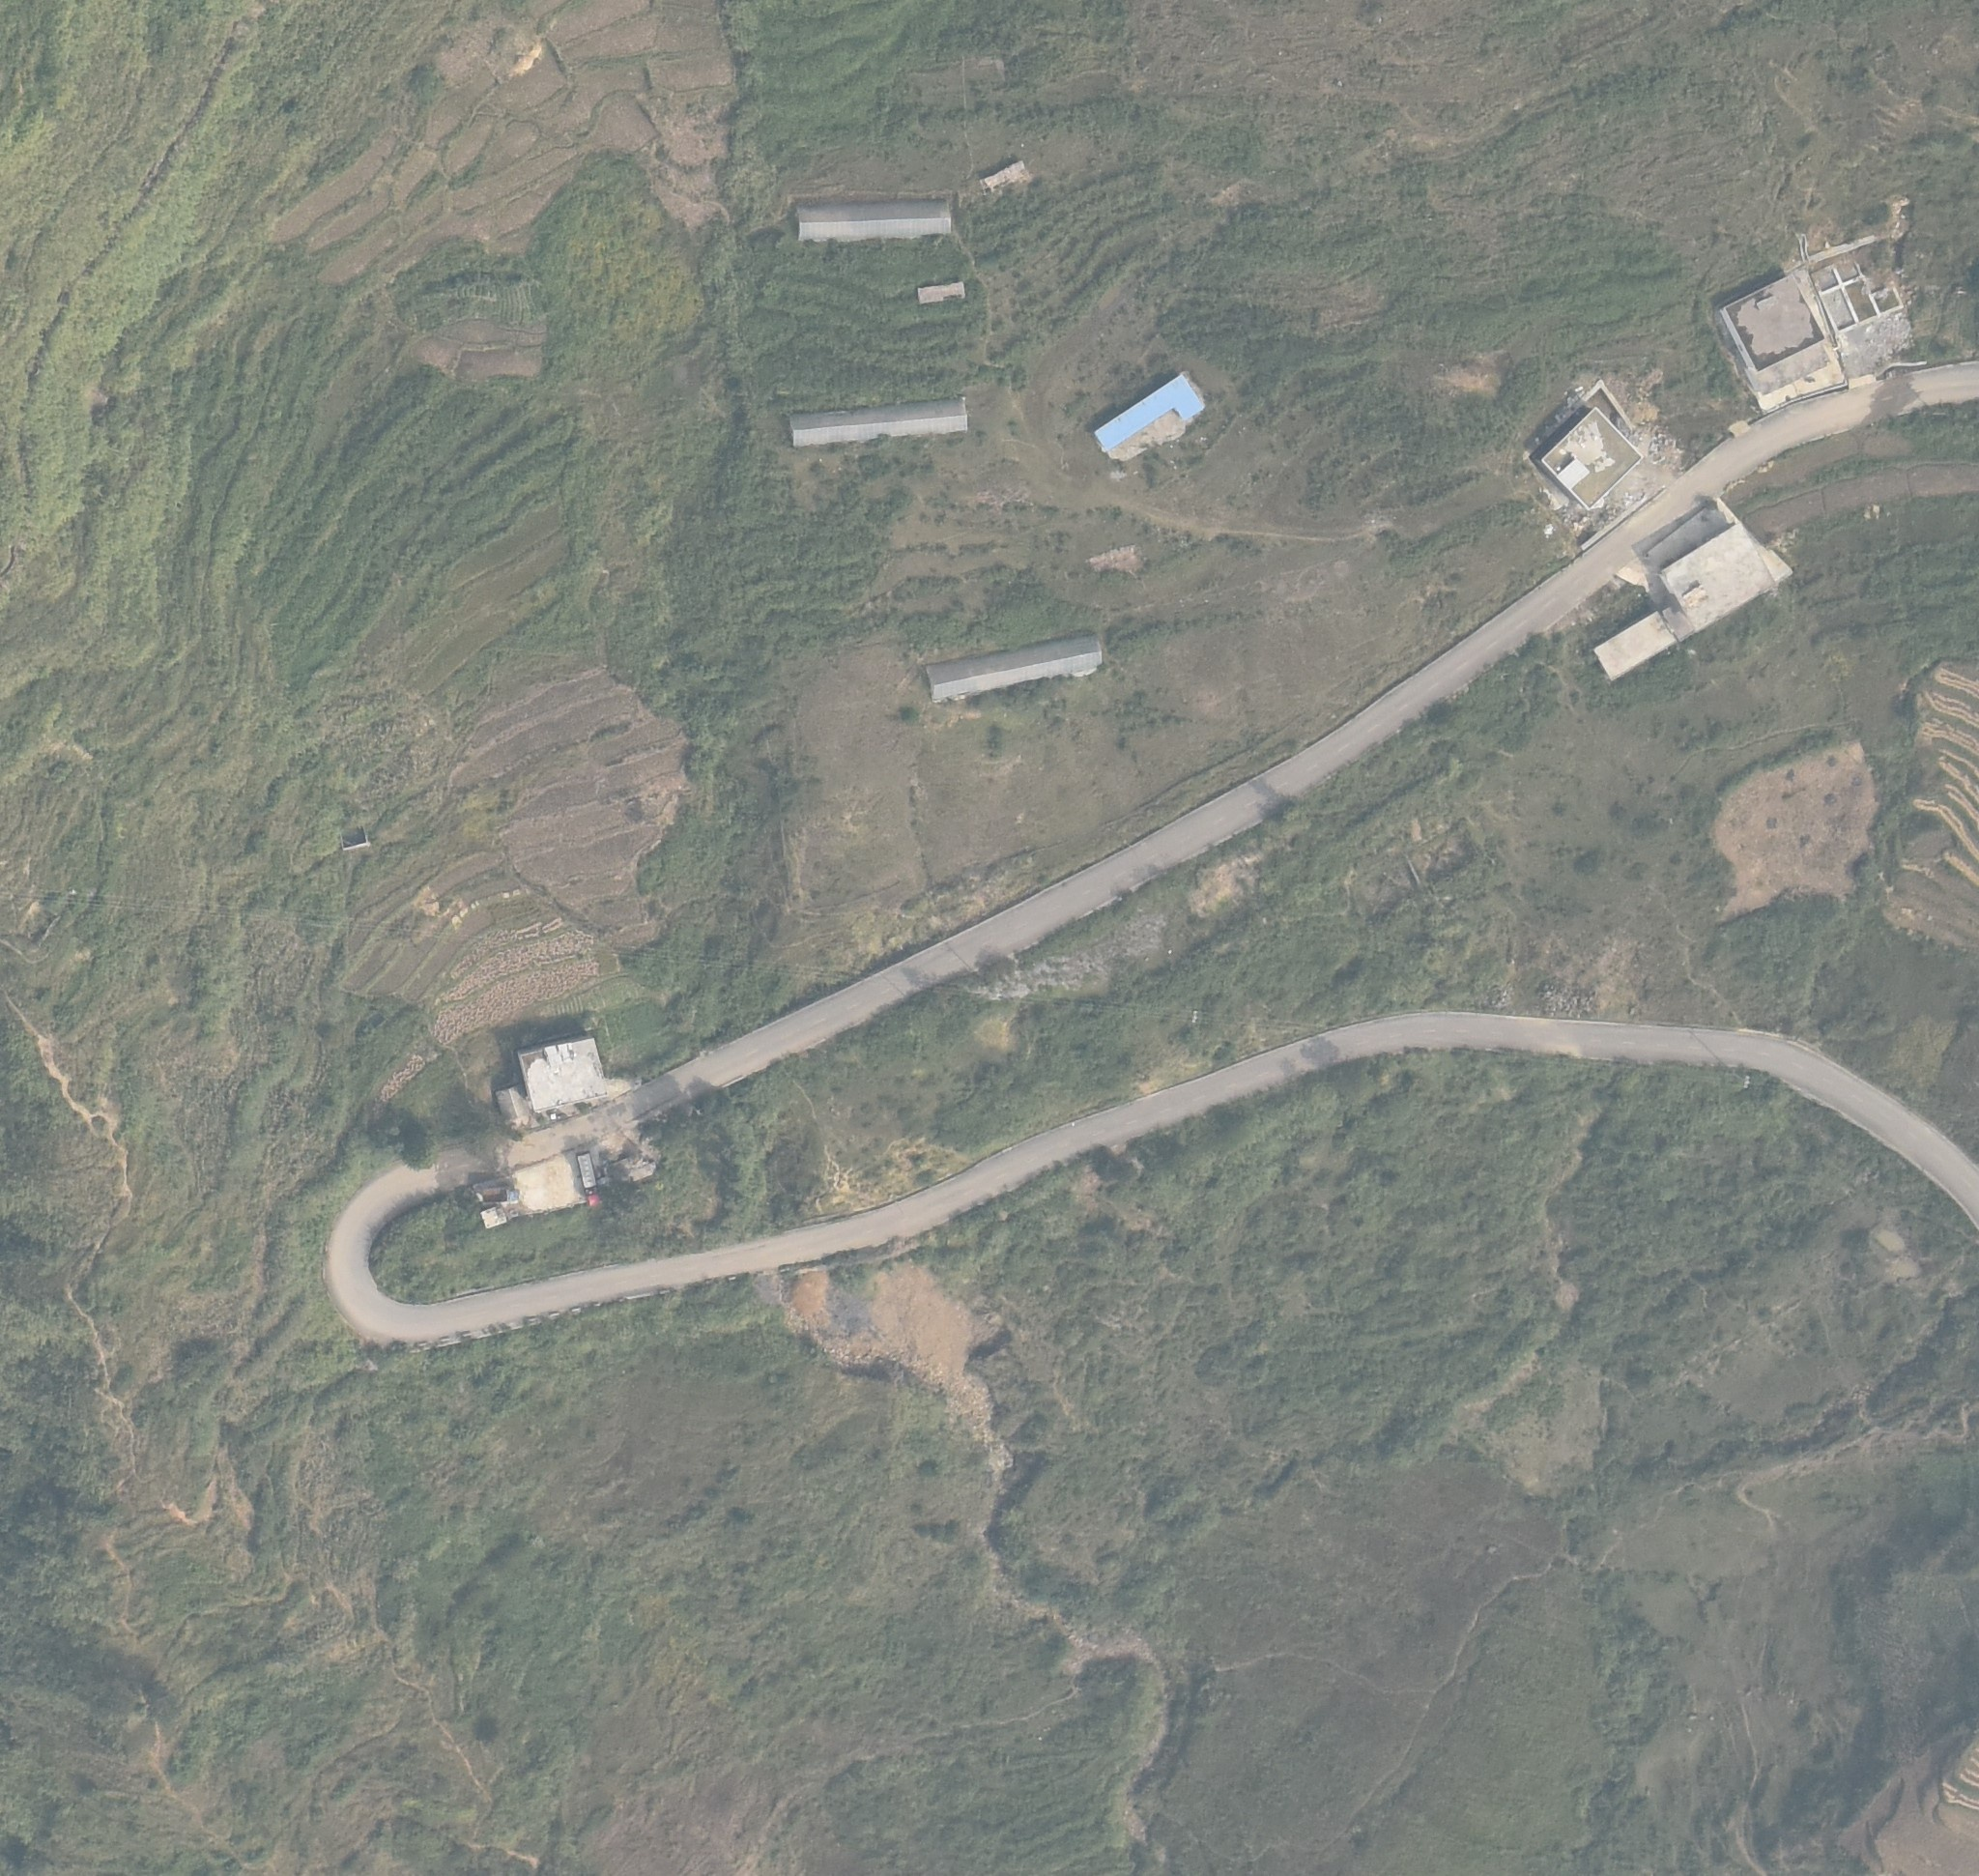building: (1662, 520, 1773, 633), (1540, 407, 1644, 508), (1723, 275, 1824, 370), (516, 1038, 608, 1111), (1593, 610, 1676, 682), (980, 159, 1029, 194), (495, 1083, 530, 1121), (916, 280, 966, 305)
prefabricated-house: (922, 633, 1103, 700), (788, 397, 967, 450), (1094, 374, 1204, 453), (797, 203, 952, 243)
vehicle: (578, 1151, 601, 1206), (478, 1187, 520, 1204)
